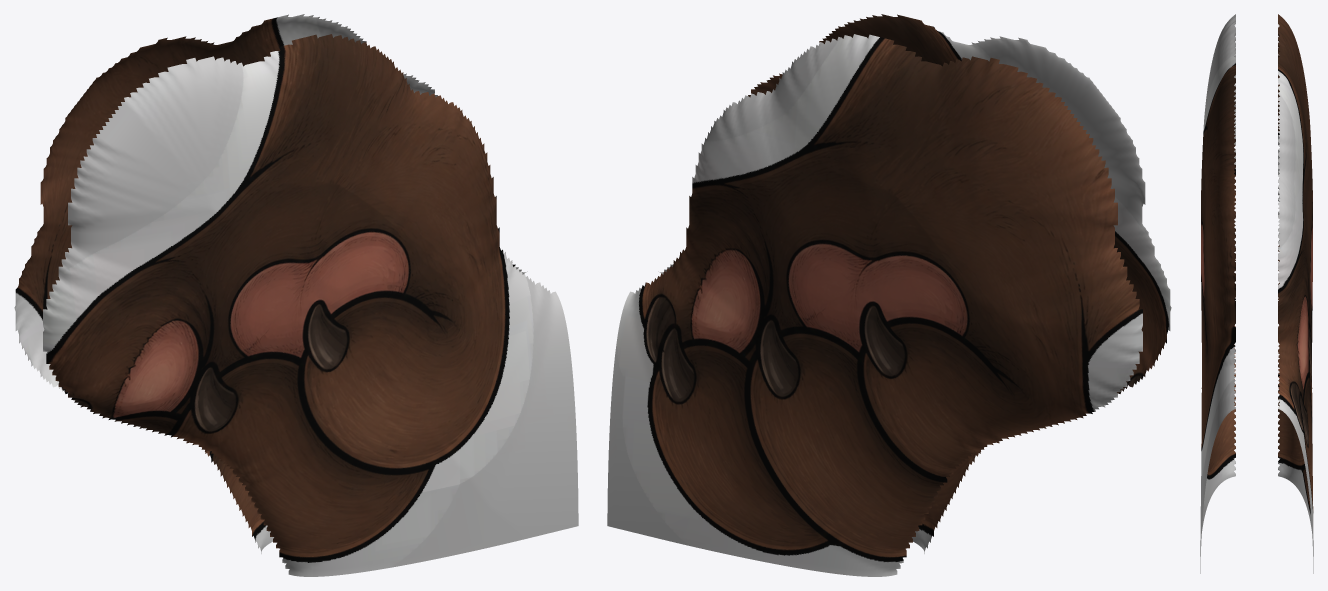
File: paw_bear.glb
3 views of the same model, side by side, from view 1: azimuth 30°, elevation 25°; view 2: azimuth 150°, elevation 25°; view 3: azimuth 270°, elevation 25° (orthographic). The views are drawn at different scales.
Size of the model in its own units: 0.9706 by 0.9765 by 0.24.
1 material, 1 textured.
